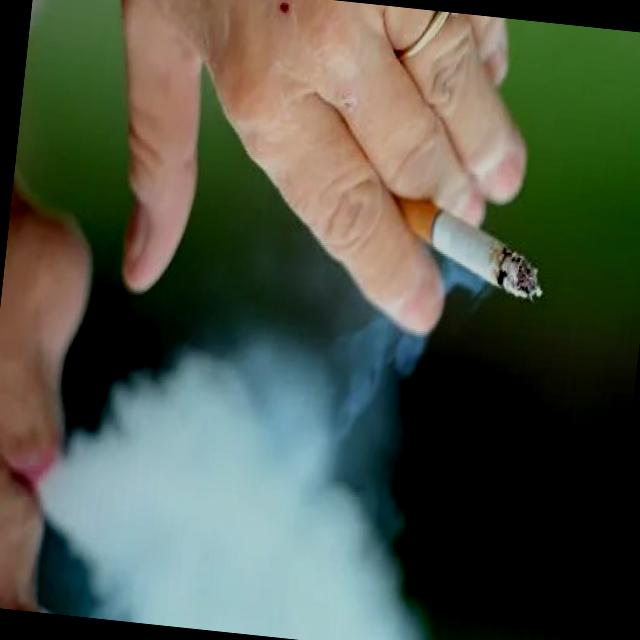smoke: (380, 183, 568, 312)
